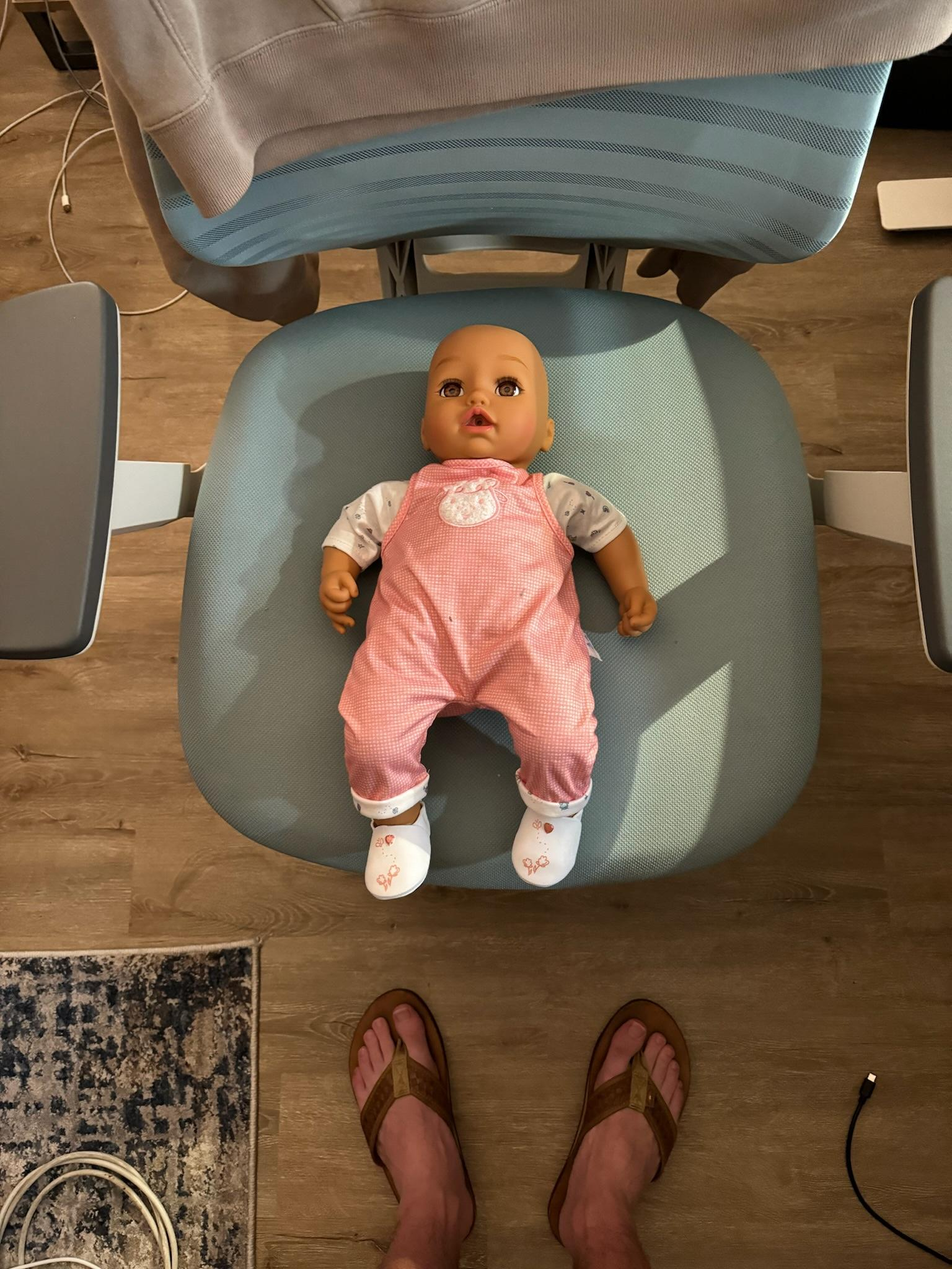baby: (318, 312, 657, 913)
